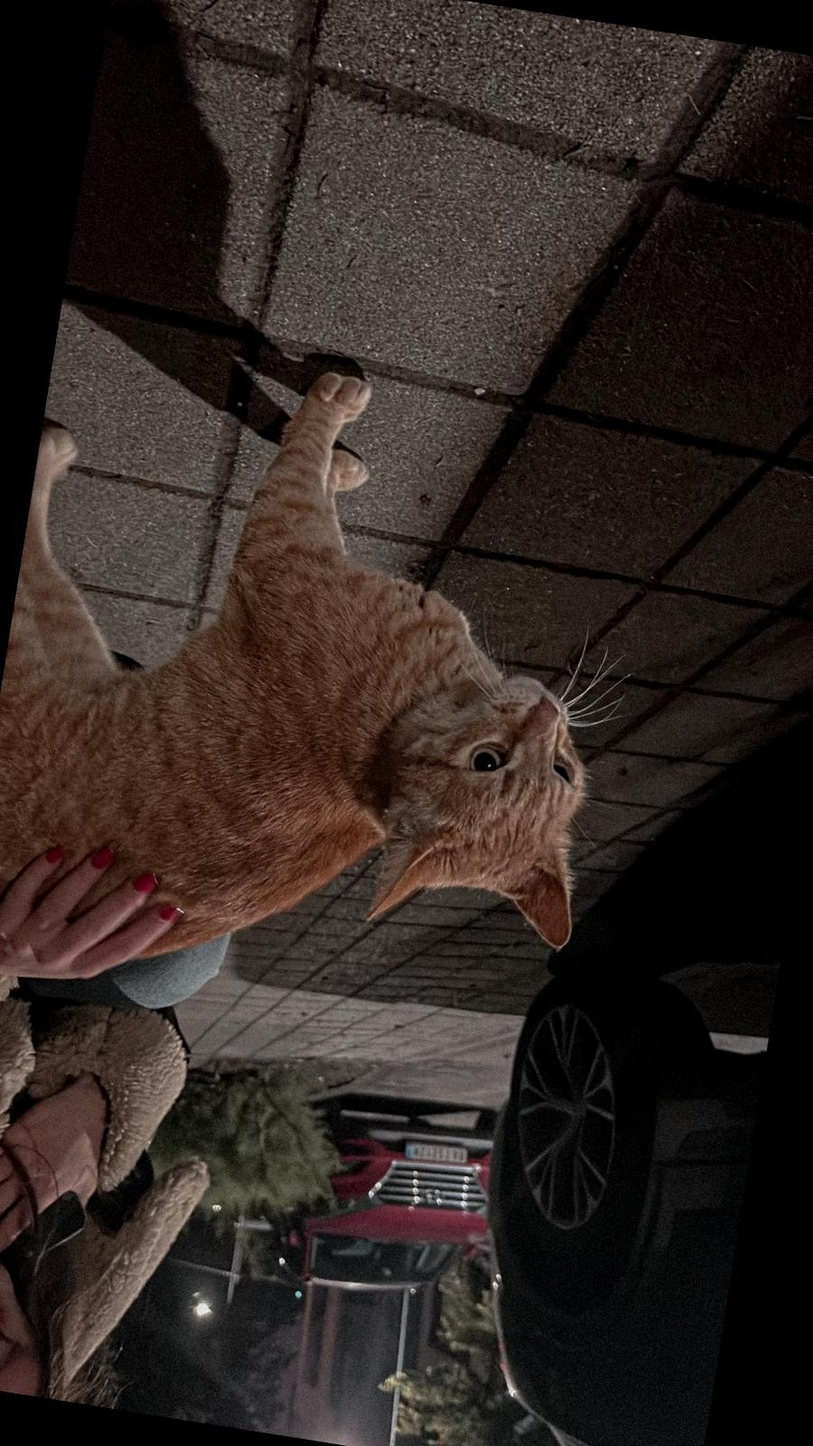macka: (0, 327, 657, 1029)
